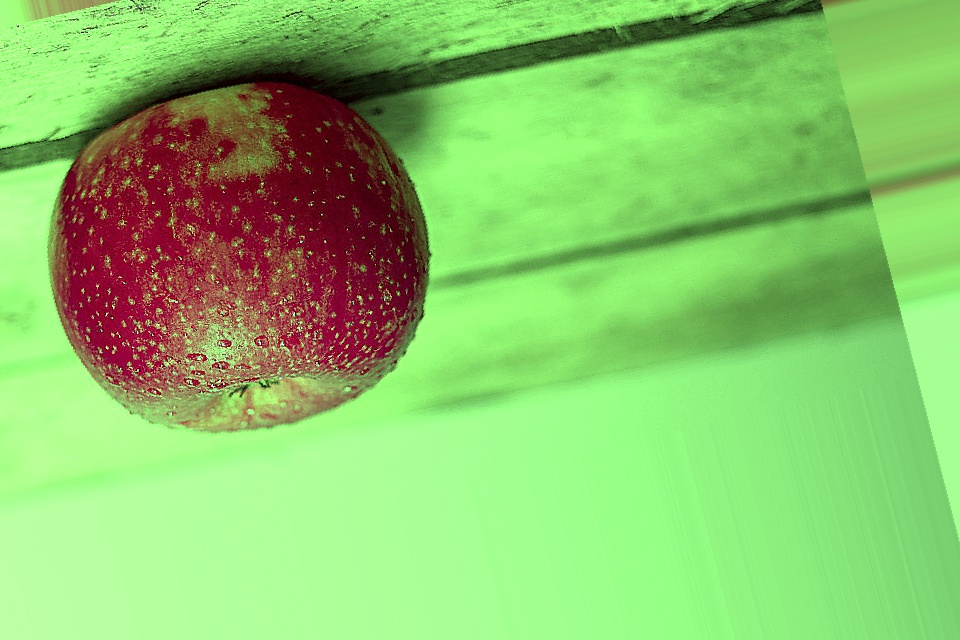apple: (0, 31, 499, 496)
